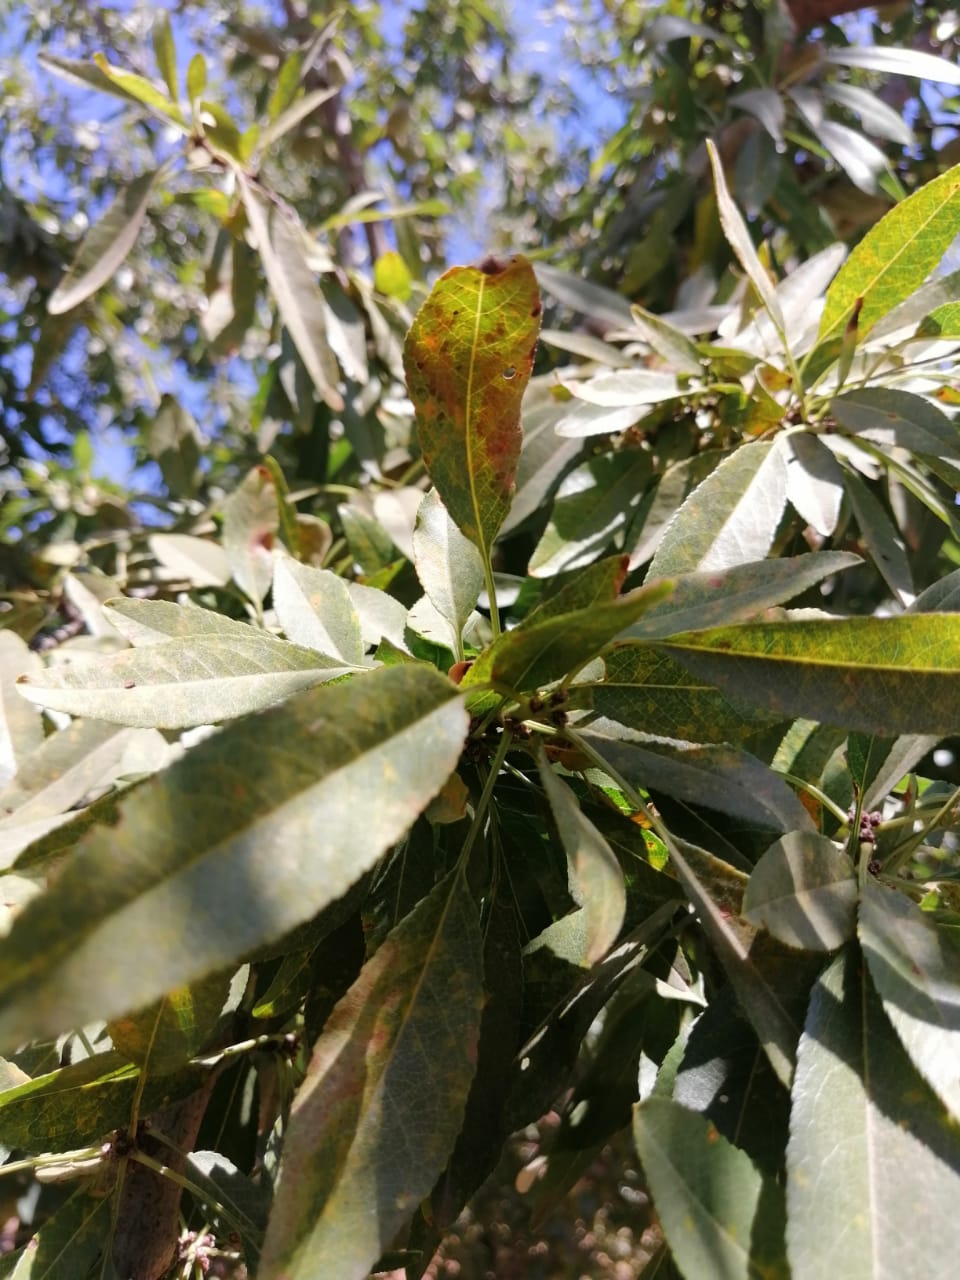rouille: (255, 858, 483, 1280), (491, 546, 869, 700), (399, 249, 544, 558), (603, 613, 960, 738)
